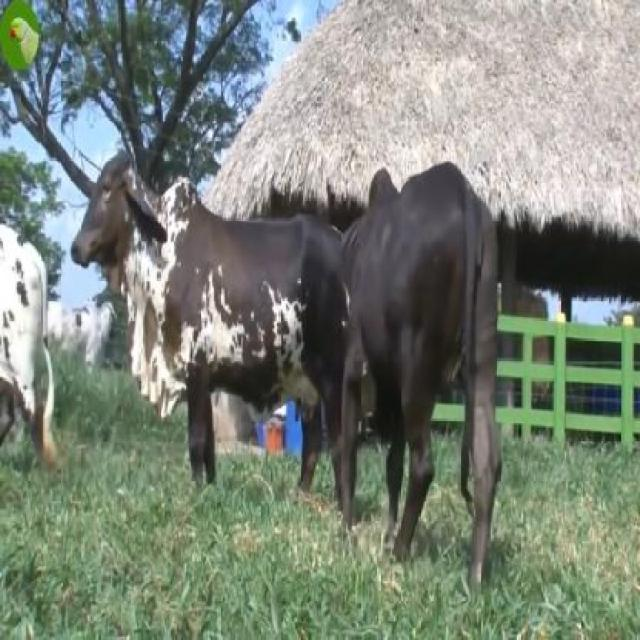Cow: (69, 151, 346, 509)
